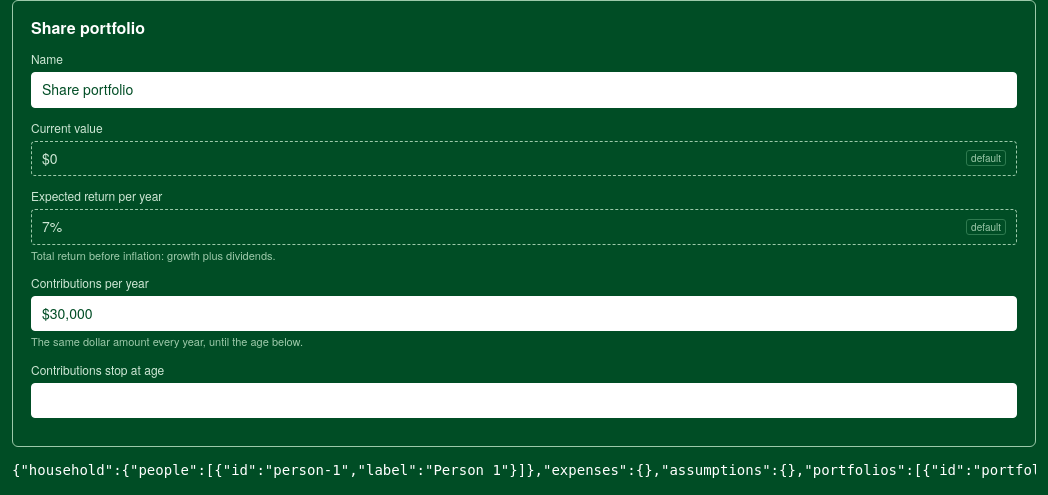
PortfolioSection › contributions per year › restores the default when cleared
Clear the field labelled "Contributions per year": (524, 314) top-left (42, 304), bottom-right (1006, 323)
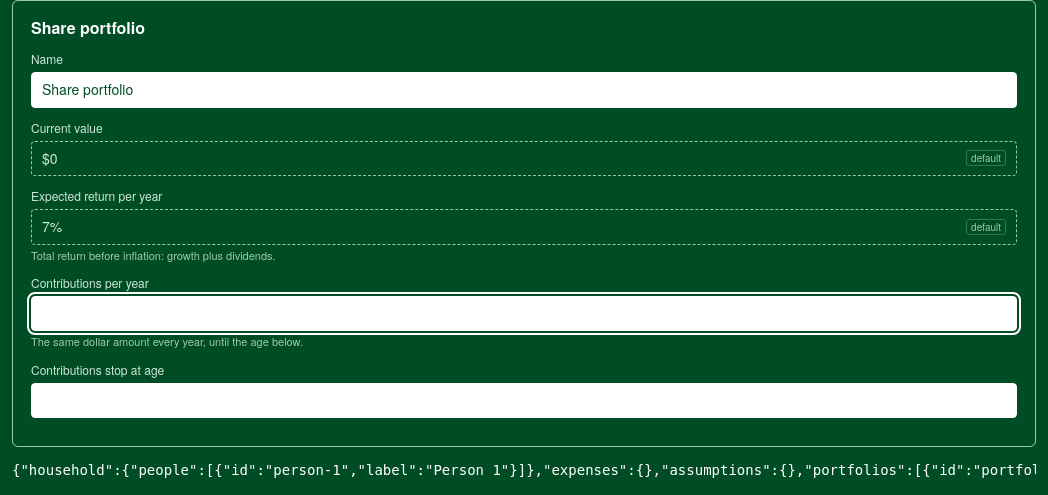
Press Tab
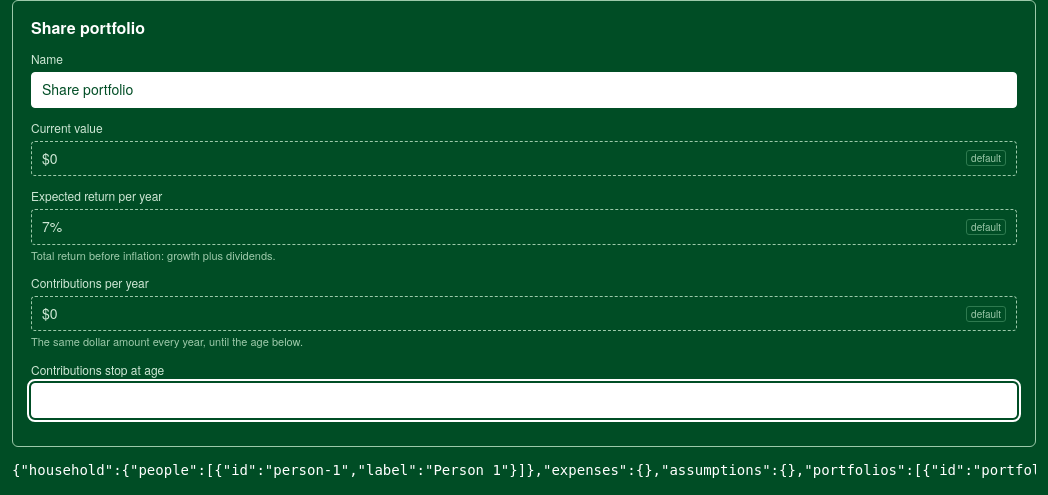
Expected: the field labelled "Contributions per year" holds "$0", top-left (42, 304), bottom-right (960, 323)
